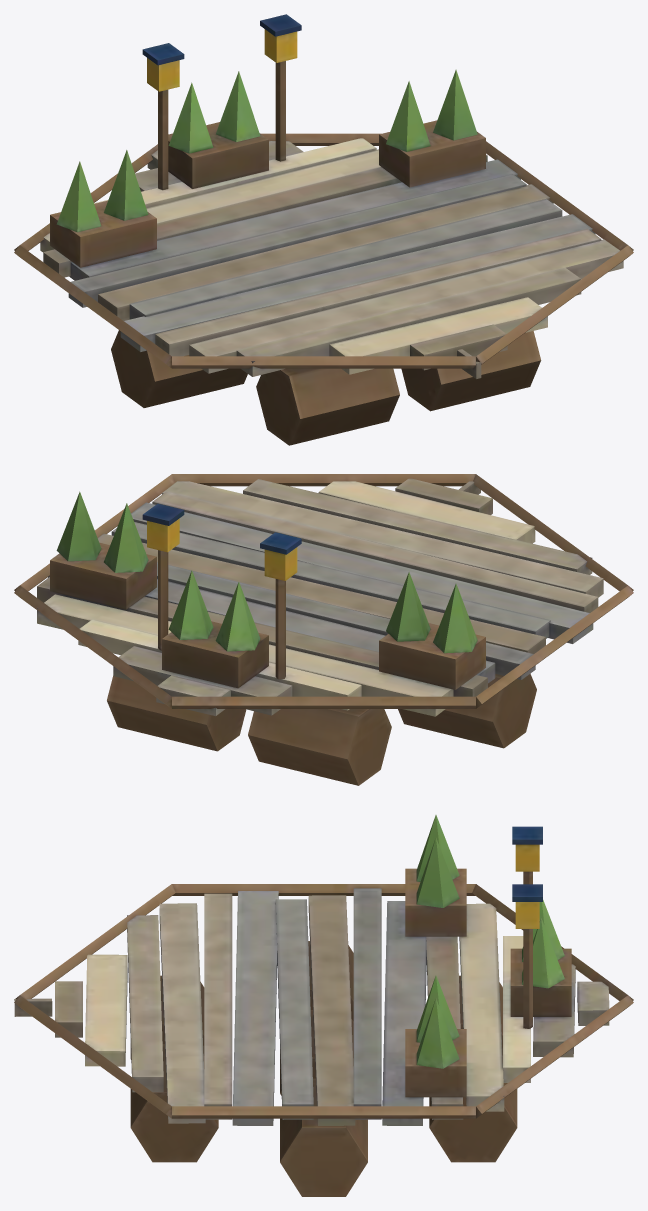
The model's file is raft-c-age1-lite.glb.
The picture shows the model from 3 angles, top to bottom: view 1: azimuth 30°, elevation 25°; view 2: azimuth 150°, elevation 25°; view 3: azimuth 270°, elevation 25°; orthographic projection.
Visible parts, largest first — view 1: raft-c-age1-lite; view 2: raft-c-age1-lite; view 3: raft-c-age1-lite.
Boxes of the visible parts, x1=… form: raft-c-age1-lite: x1=14, y1=14, x2=633, y2=445; raft-c-age1-lite: x1=14, y1=474, x2=633, y2=785; raft-c-age1-lite: x1=14, y1=815, x2=633, y2=1196.
Bounding box in the file's own units: 1.59 × 0.7856 × 1.83.
1 material, 1 textured.
